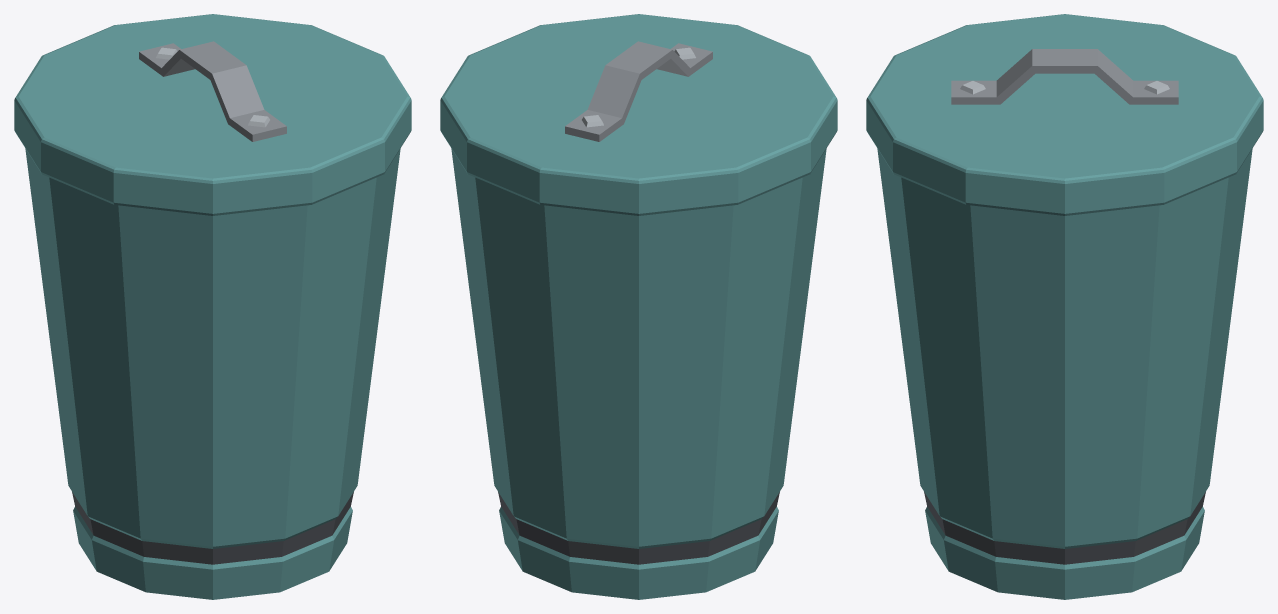
The model's file is SM_DustBin_1.fbx.
3 views of the same model, side by side, from view 1: azimuth 30°, elevation 25°; view 2: azimuth 150°, elevation 25°; view 3: azimuth 270°, elevation 25° (orthographic).
Parts seen in each view (by area): view 1: SM_DustBin_1_LOD0; view 2: SM_DustBin_1_LOD0; view 3: SM_DustBin_1_LOD0.
Part boxes in pixels (bbox=[...]): SM_DustBin_1_LOD0: bbox=[14, 14, 411, 599]; SM_DustBin_1_LOD0: bbox=[440, 14, 837, 599]; SM_DustBin_1_LOD0: bbox=[866, 14, 1263, 599].
Size of the model in its own units: 47.4 by 47.4 by 63.91.
Materials: 1 (1 with a texture image).
